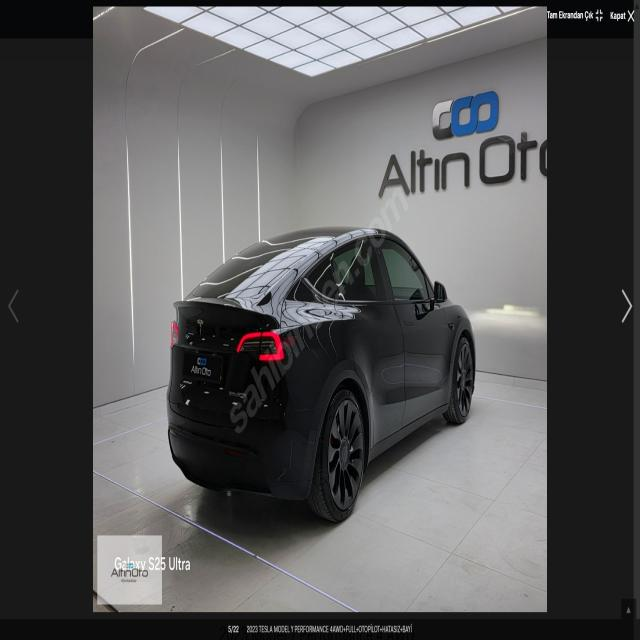tesla: (192, 310, 208, 344)
